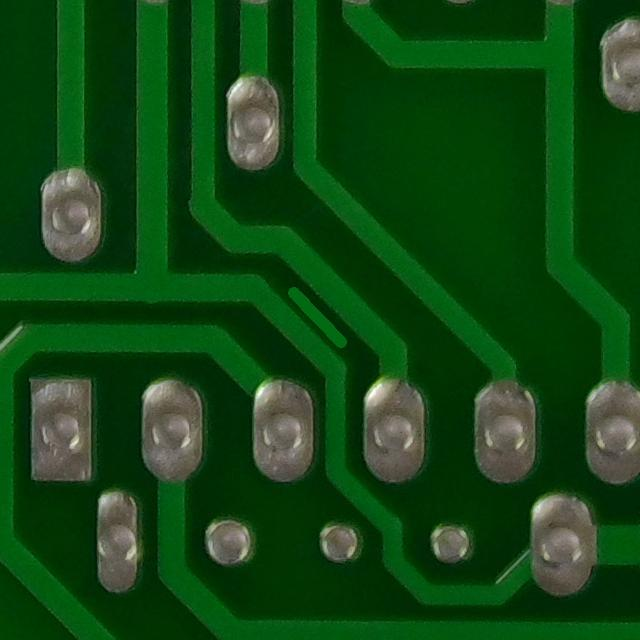spurious_copper: (277, 273, 364, 367)
